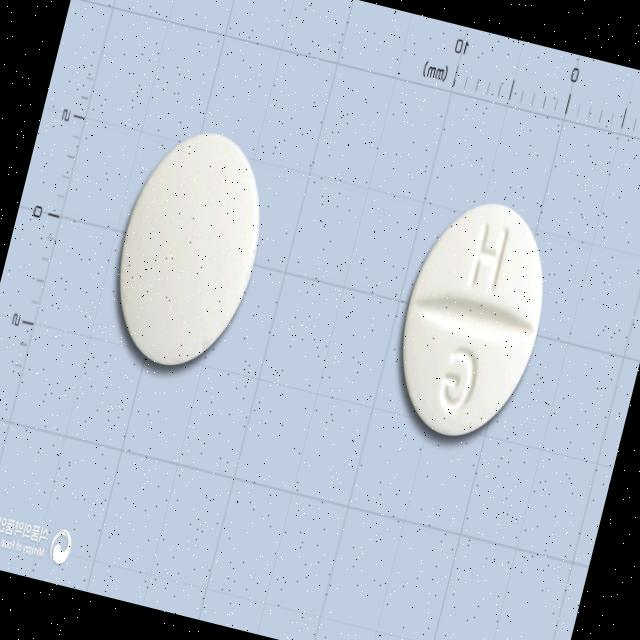Cipoxcin: (370, 180, 571, 463), (89, 109, 287, 391)
